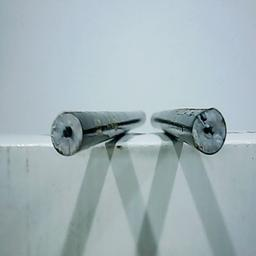pen: (193, 109, 227, 155), (51, 115, 81, 156)
